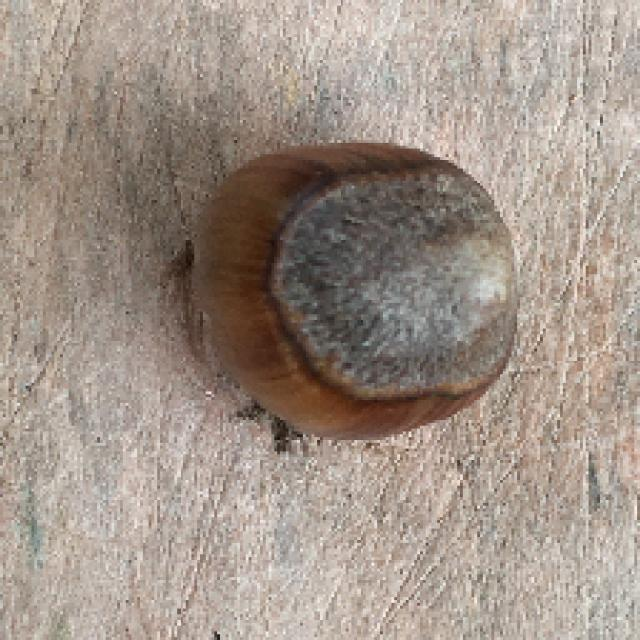damagedHazelnut: (174, 138, 526, 454)
